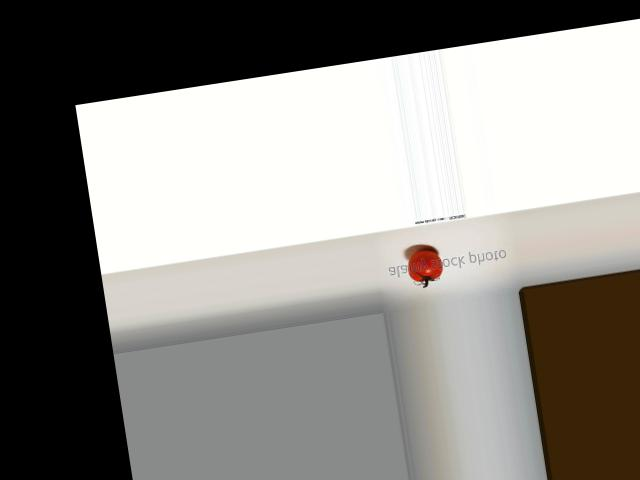tomato: (405, 247, 445, 284)
